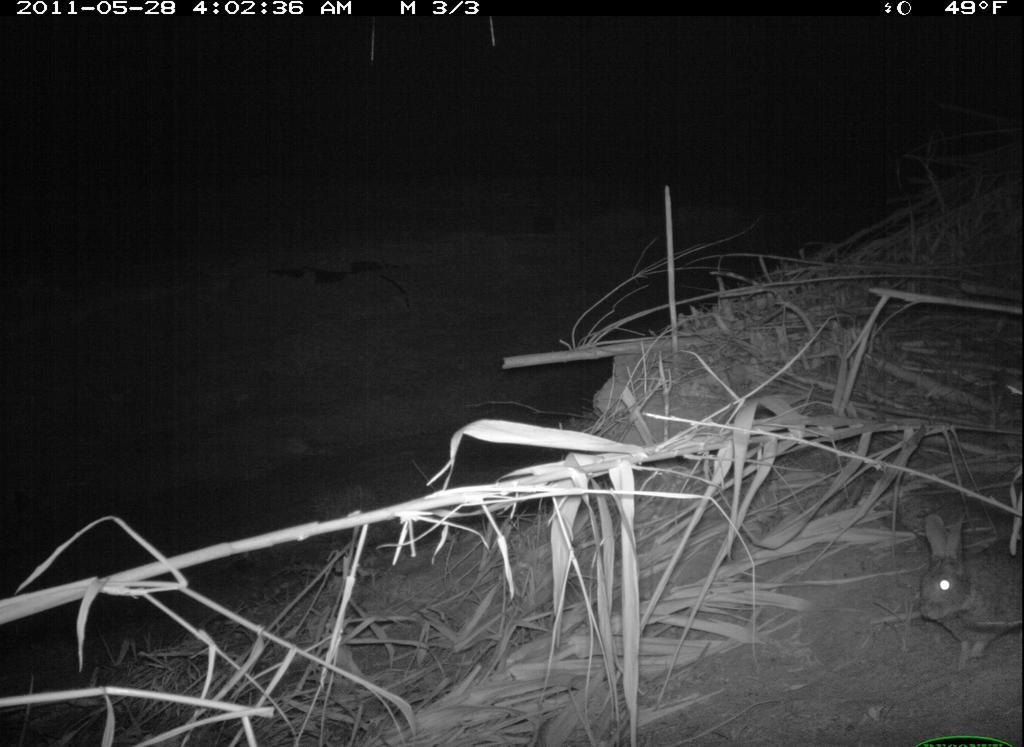rabbit: (907, 509, 1023, 664)
